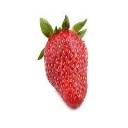strawberry: (36, 15, 92, 109)
